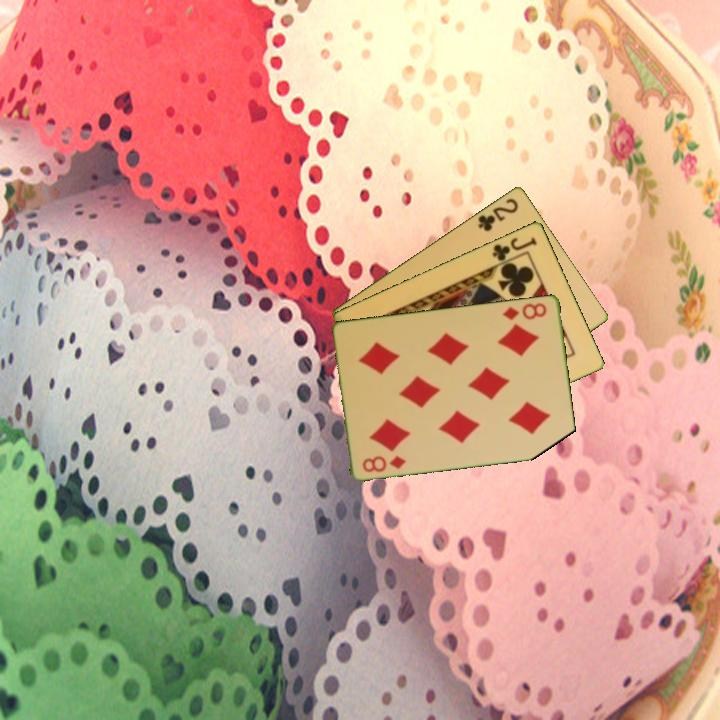2c: (474, 194, 522, 234)
8d: (499, 299, 550, 322), (359, 452, 409, 475)
Jc: (489, 233, 540, 268)
